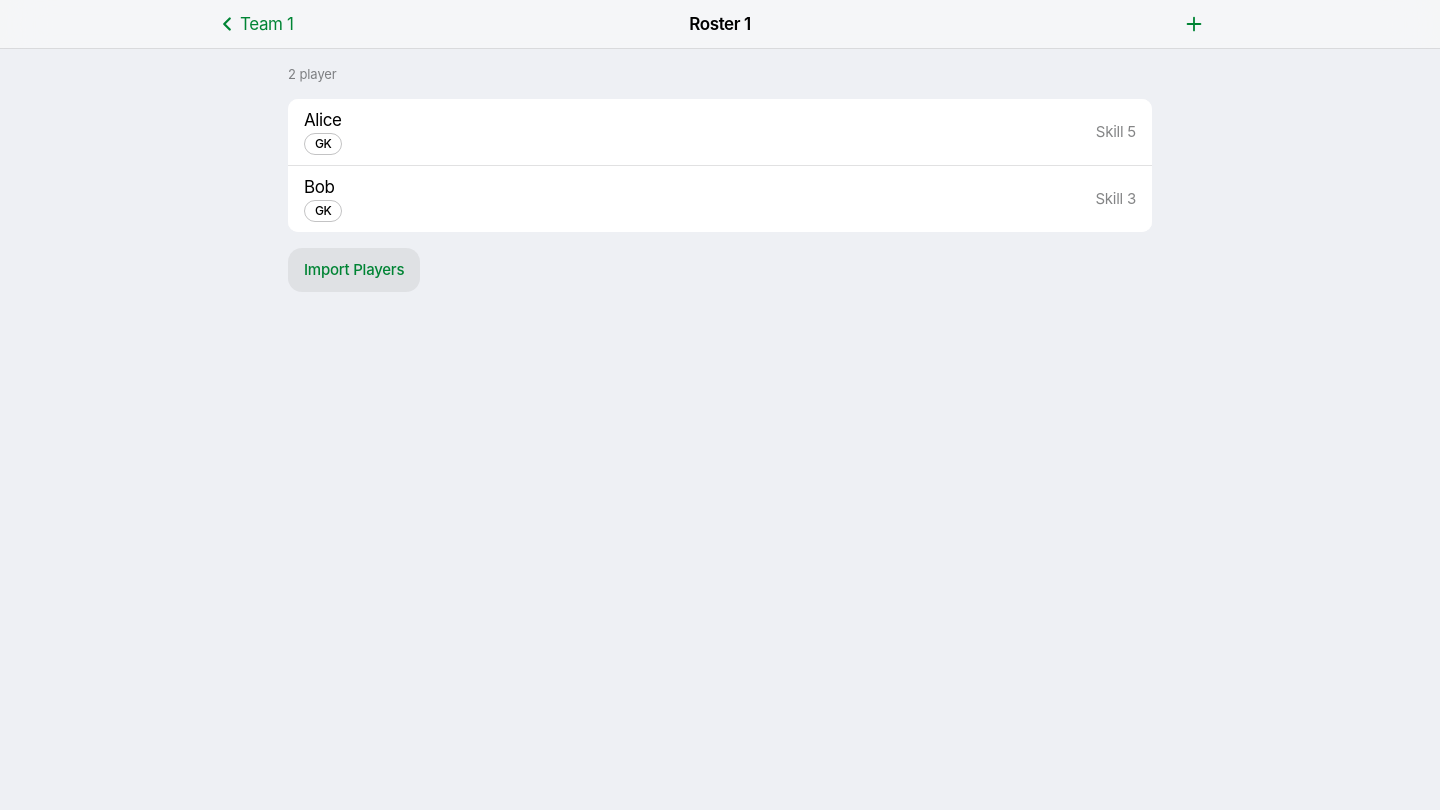
Test case: RosterEditor › player delete confirmation › shows confirmation dialog when Delete Player is clicked in edit sheet
Tap player name to open edit sheet
Click the text "Alice". click: (323, 120)
box: [304,110,342,130]
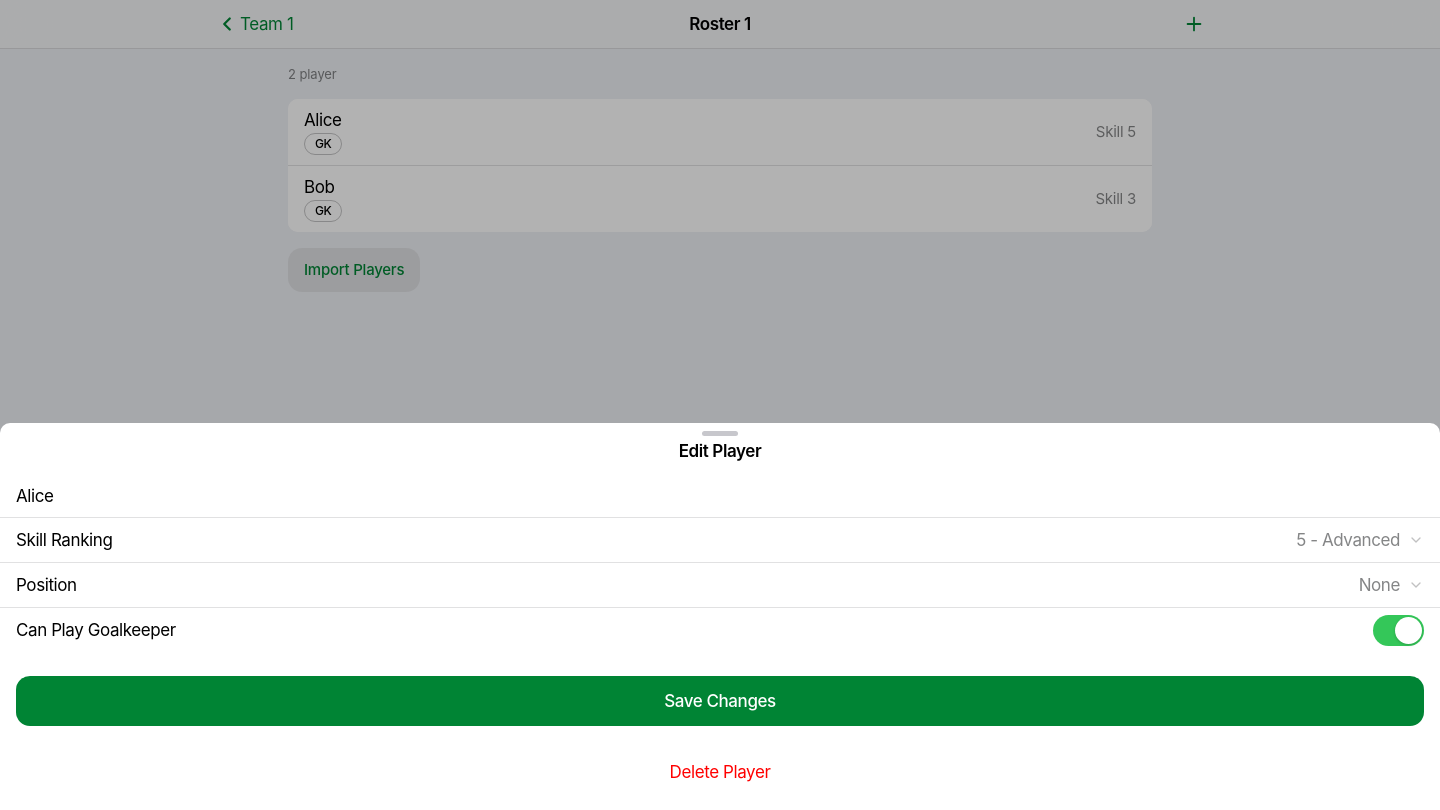
Click Delete Player in the edit sheet
Click the button "Delete Player". click: (720, 772)
box: [0,750,1439,794]
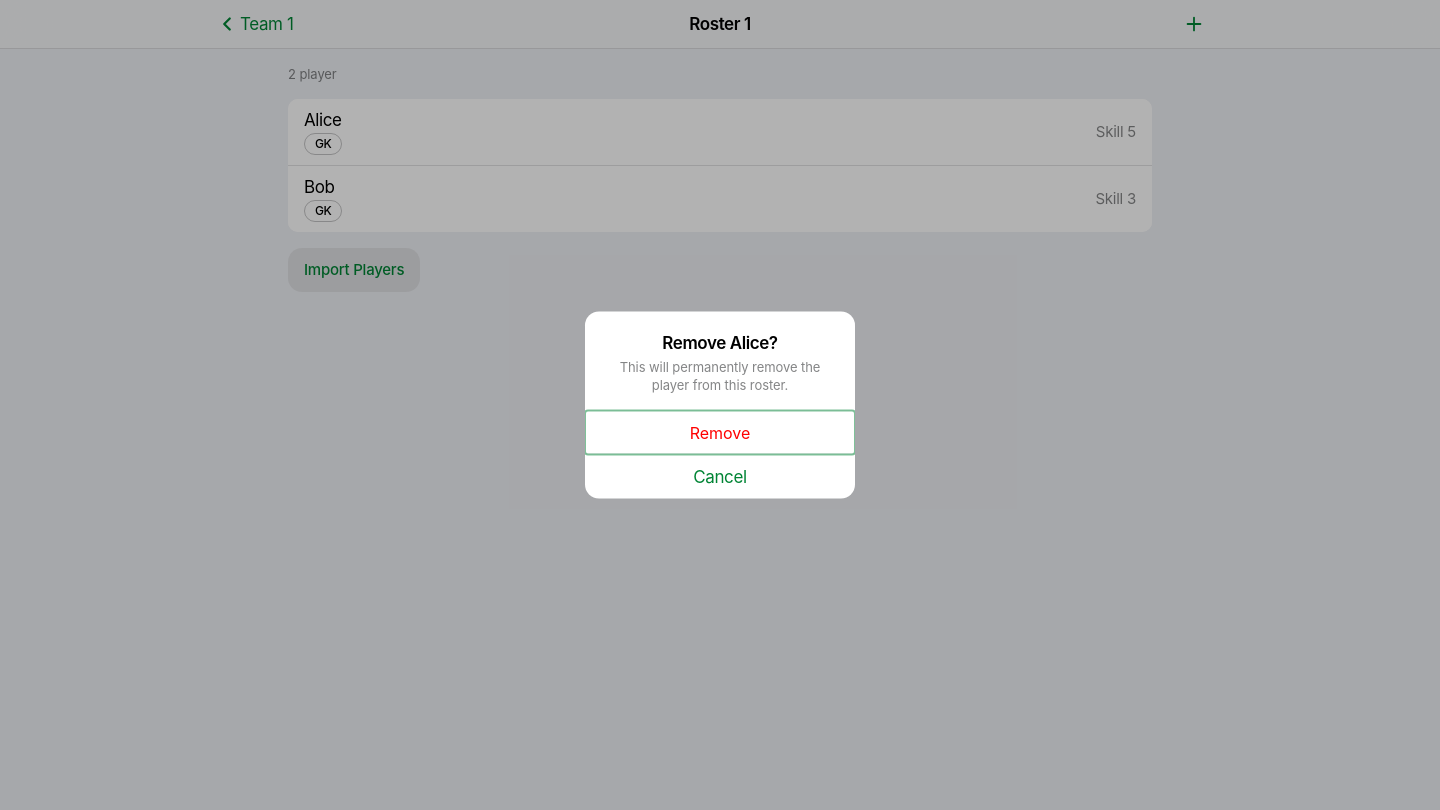
Now the heading "Remove Alice?" is shown, box [662,332,778,352]
Now the text "This will permanently remove the player from this roster." is shown, box [620,358,820,392]
